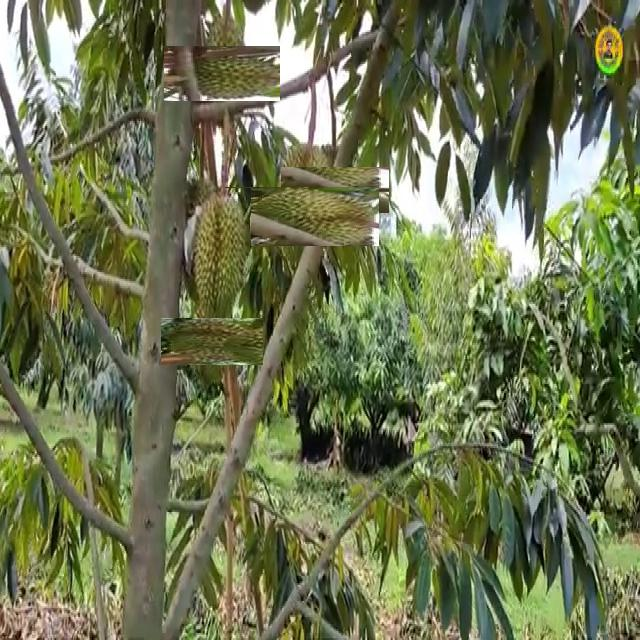durian: (248, 163, 356, 269), (192, 188, 251, 338), (179, 30, 265, 116), (296, 152, 373, 228), (174, 304, 249, 379)
